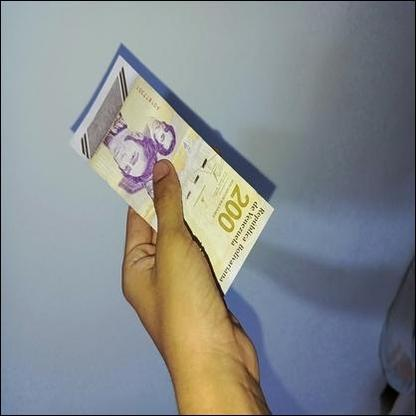two_hundred-front-vef: (68, 52, 274, 297)
